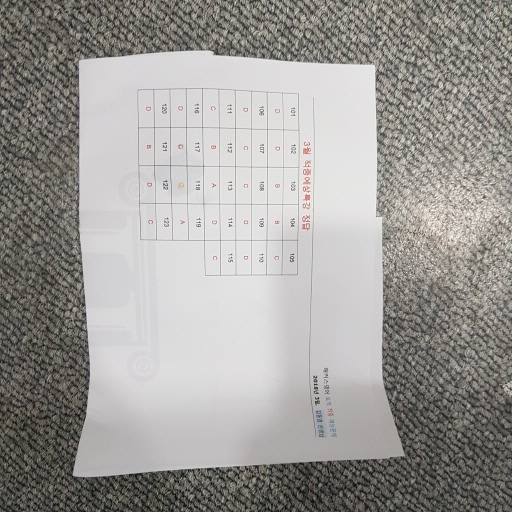Paper_3: (73, 43, 405, 480)
